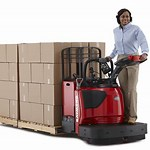Pallet Jack: (1, 46, 148, 146)
